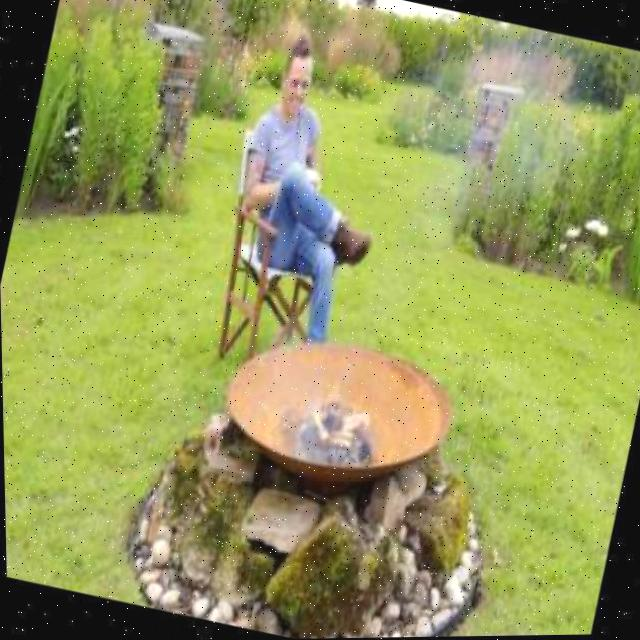fire: (302, 382, 371, 466)
